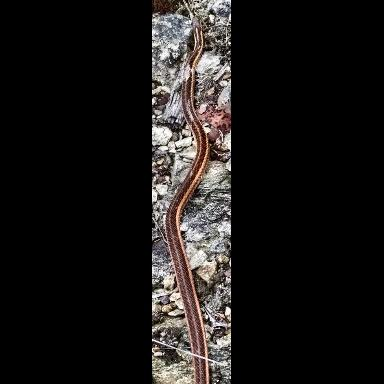snake: (164, 0, 211, 384)
